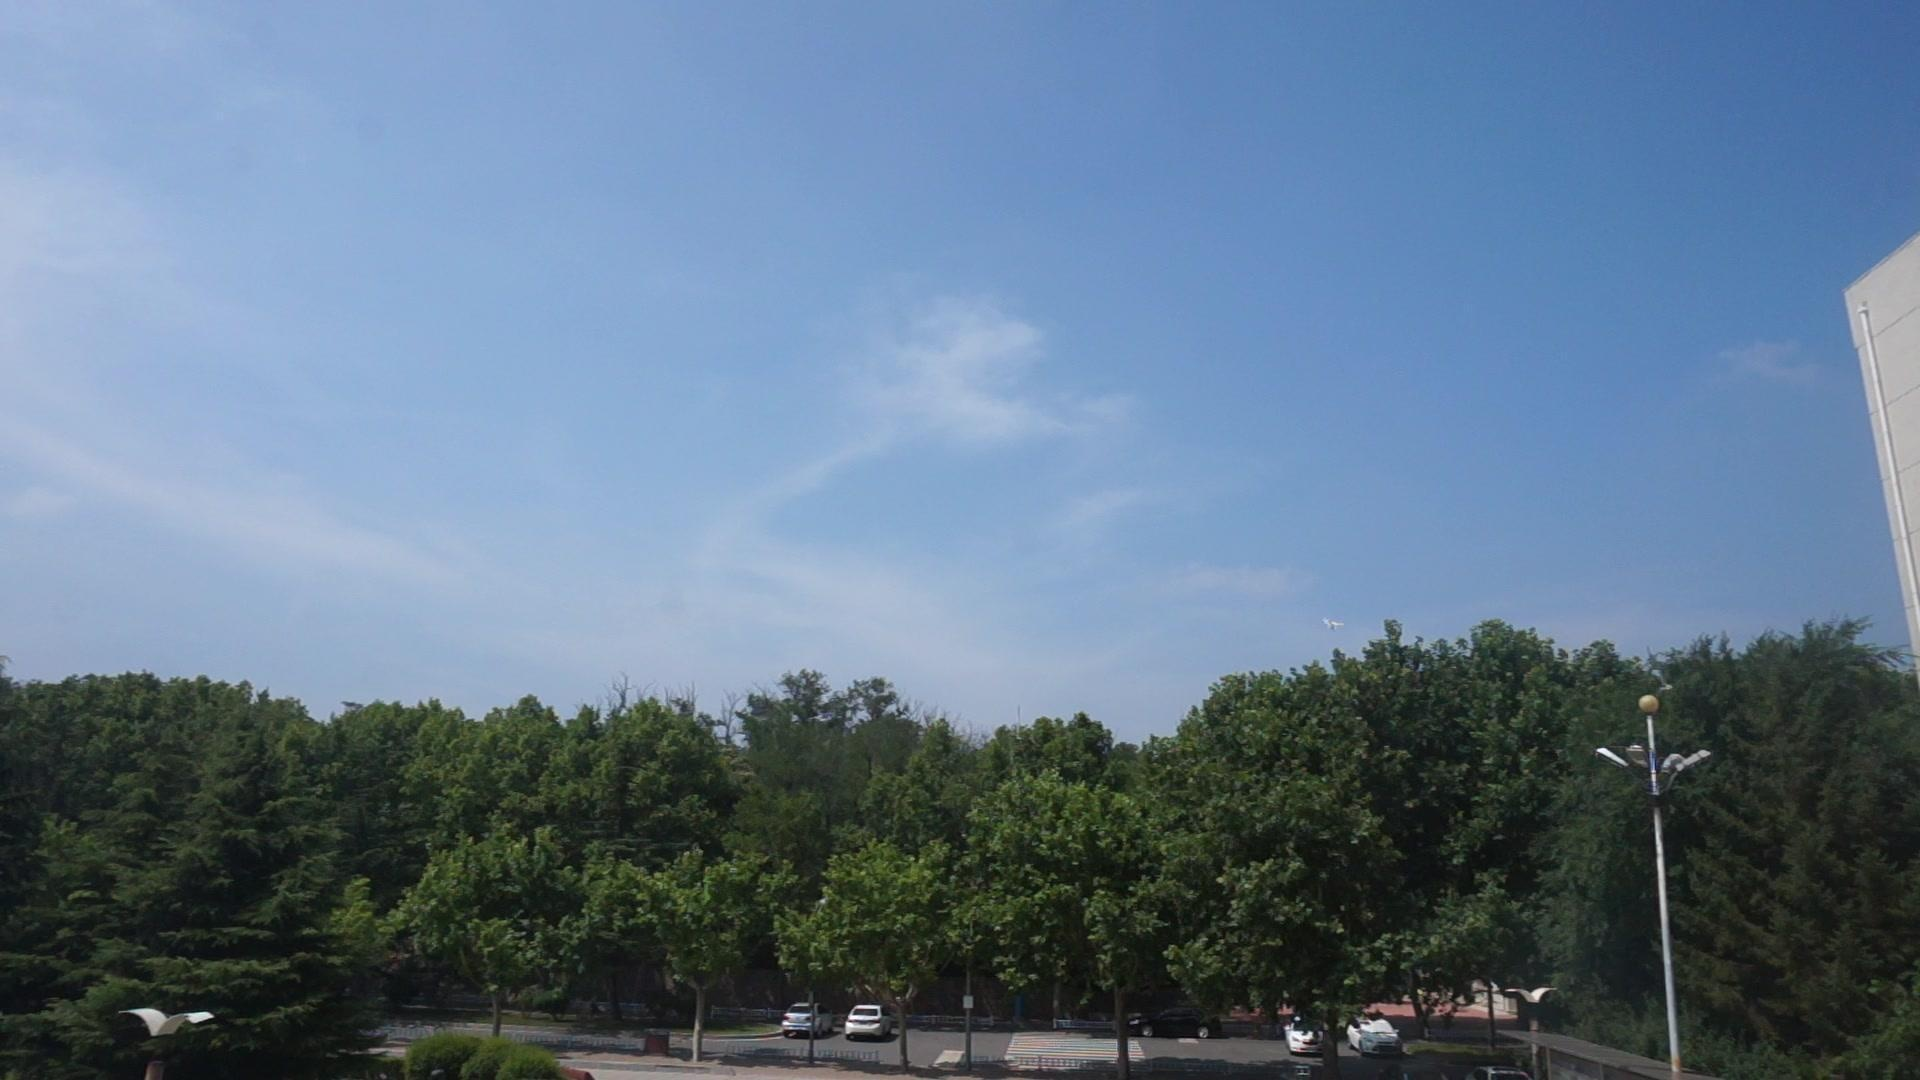UAV: (1323, 618, 1345, 630)
